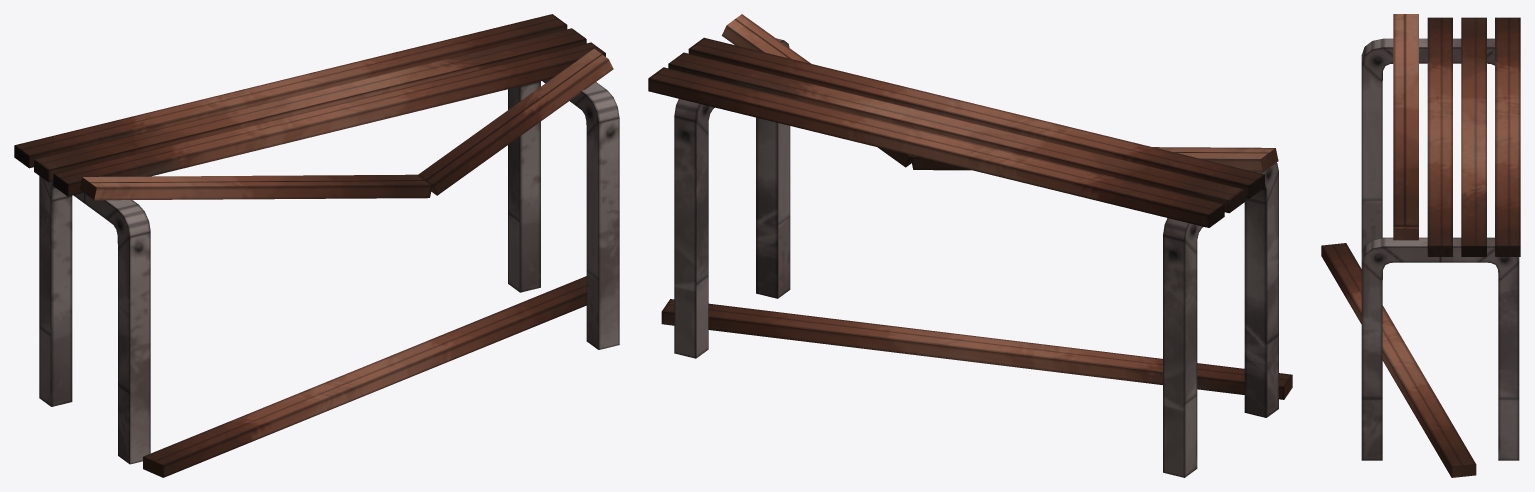
The model's file is Bench1Broken.fbx.
3 renders of one model, left to right at view 1: azimuth 30°, elevation 25°; view 2: azimuth 150°, elevation 25°; view 3: azimuth 270°, elevation 25°, orthographic. The views are drawn at different scales.
Parts seen in each view (by area): view 1: BenchBroken1; view 2: BenchBroken1; view 3: BenchBroken1.
Boxes of the visible parts, x1,y1,x2,y2 form: BenchBroken1: [14, 14, 619, 477]; BenchBroken1: [648, 14, 1292, 477]; BenchBroken1: [1321, 14, 1520, 477].
Size of the model in its own units: 107 by 37.93 by 49.52.
